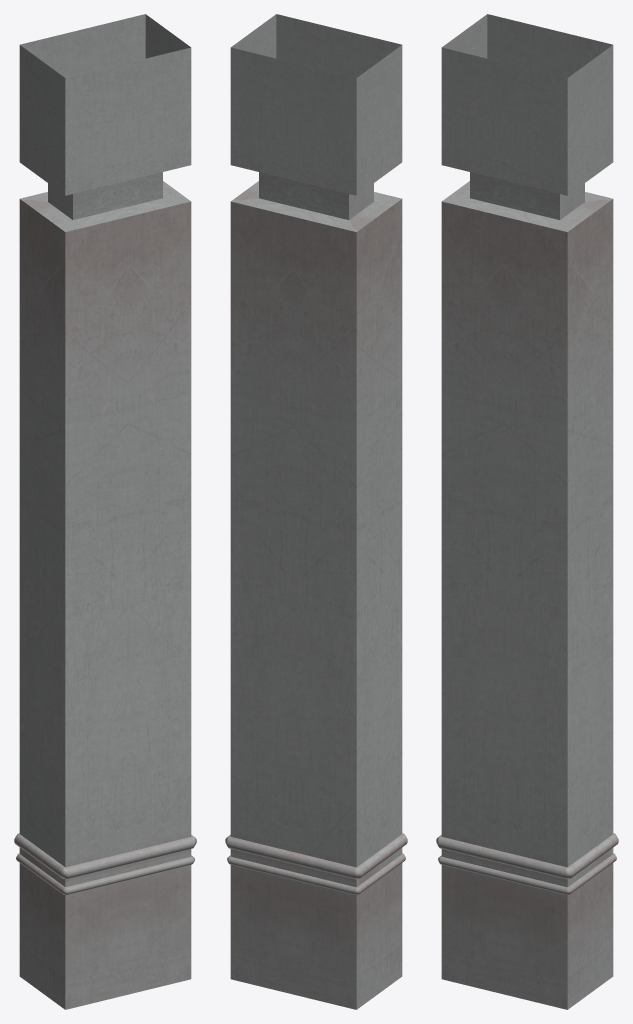
Rendered from Segment_Wall_Pillar.fbx.
The picture shows the model from 3 angles, left to right: view 1: azimuth 30°, elevation 25°; view 2: azimuth 150°, elevation 25°; view 3: azimuth 330°, elevation 25°; orthographic projection.
Parts seen in each view (by area): view 1: Wall_Pillar; view 2: Wall_Pillar; view 3: Wall_Pillar.
Part boxes in pixels (bbox=[...]): Wall_Pillar: bbox=[14, 14, 196, 1009]; Wall_Pillar: bbox=[225, 14, 407, 1009]; Wall_Pillar: bbox=[436, 14, 618, 1009].
Bounding box in the file's own units: 46.09 × 300 × 30.37.
1 material, 1 textured.
